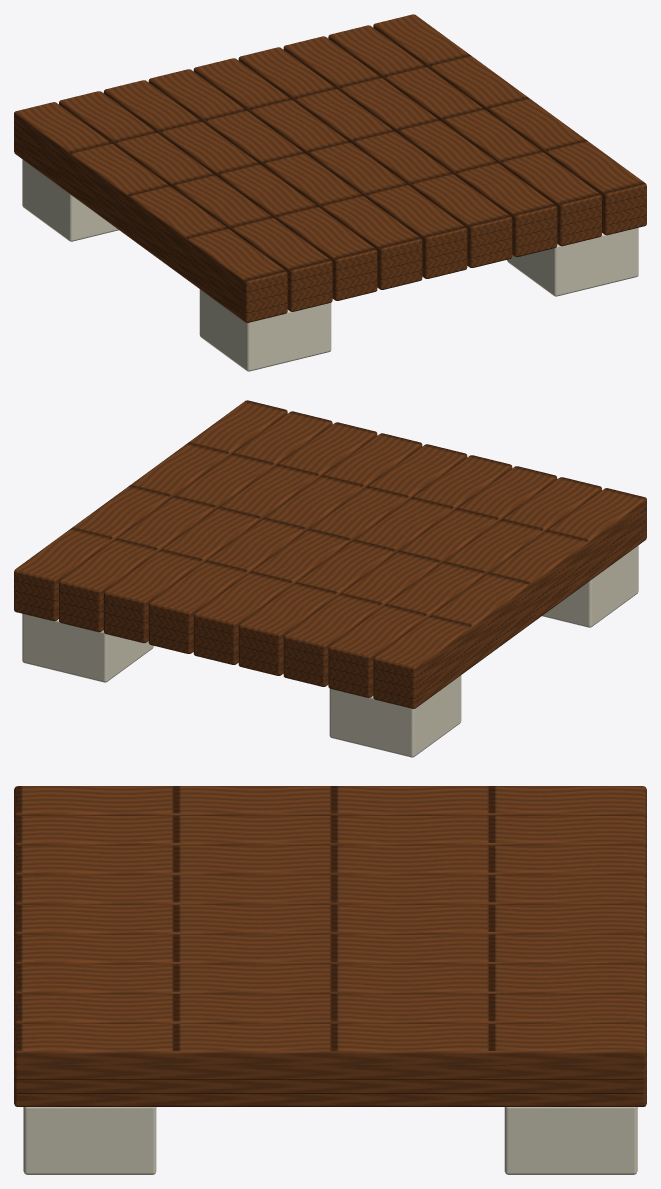
File: modular-survival-base-builder-rubble-foundation-d9f31460__24138.glb
3 views of the same model, one above another, from view 1: azimuth 30°, elevation 25°; view 2: azimuth 150°, elevation 25°; view 3: azimuth 270°, elevation 25° (orthographic). The views are drawn at different scales.
Parts seen in each view (by area): view 1: rubble-foundation; view 2: rubble-foundation; view 3: rubble-foundation.
Part boxes in pixels (bbox=[...]): rubble-foundation: bbox=[14, 14, 646, 371]; rubble-foundation: bbox=[14, 400, 646, 757]; rubble-foundation: bbox=[14, 786, 646, 1174].
Size of the model in its own units: 1.99 by 0.4499 by 2.
Materials: 2 (1 with a texture image).
